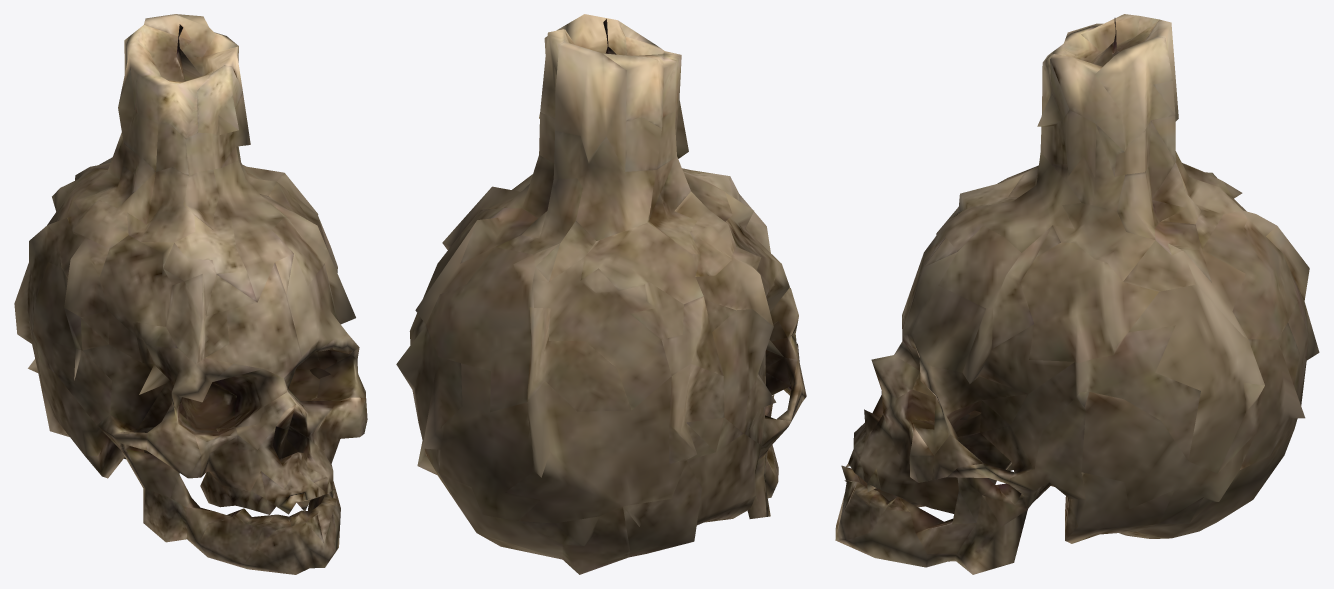
File: h_skull_candle.glb
The picture shows the model from 3 angles, left to right: view 1: azimuth 30°, elevation 25°; view 2: azimuth 150°, elevation 25°; view 3: azimuth 270°, elevation 25°; orthographic projection. The views are drawn at different scales.
Parts seen in each view (by area): view 1: h_skull_candle; view 2: h_skull_candle; view 3: h_skull_candle.
Boxes of the visible parts, box(x1,y1,x2,y2) form: h_skull_candle: box(14, 14, 367, 574); h_skull_candle: box(396, 14, 806, 574); h_skull_candle: box(835, 14, 1319, 574).
Bounding box in the file's own units: 0.6792 × 1.09 × 0.9298.
1 material, 1 textured.
